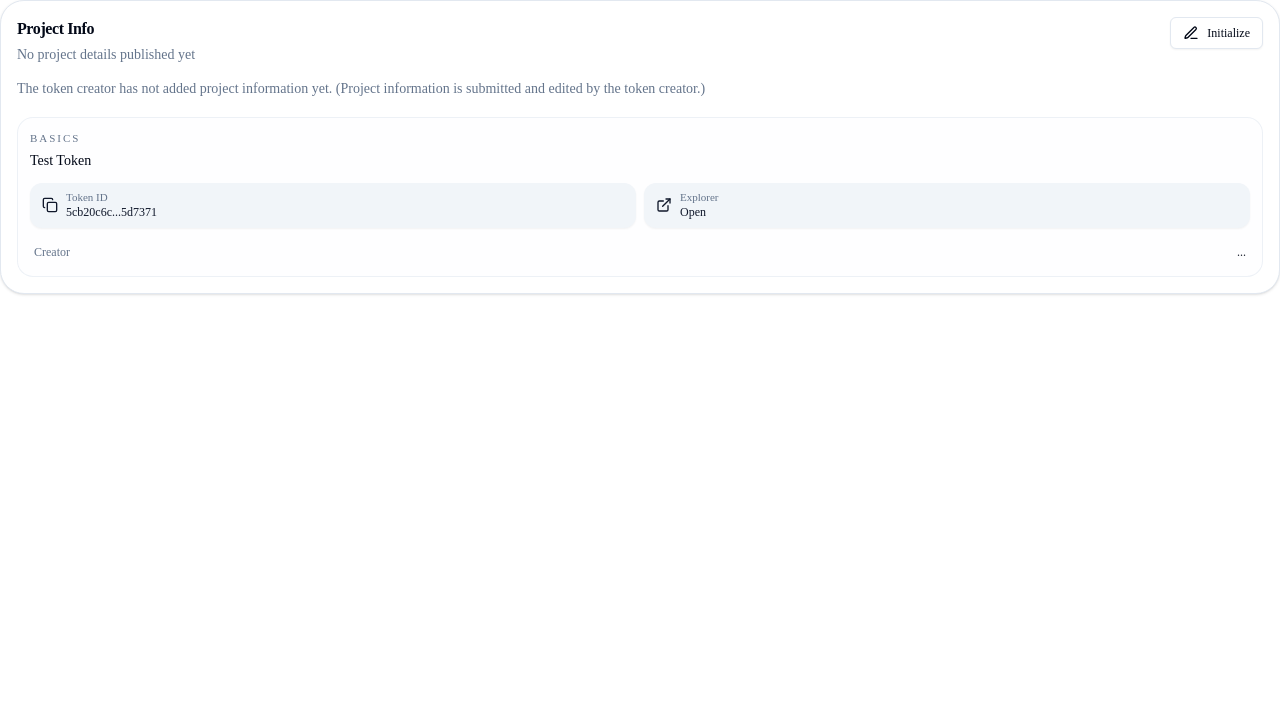
Test: TokenProjectInfoCard › shows project info source and moderation disclaimers
This screenshot has width=1280, height=720.
Expected: the text "The token creator has not added project information yet. (Project information is submitted and edited by the token creat" is shown, x1=17 y1=81 x2=705 y2=96
Click the button "Initialize".
click(1217, 33)  # box x1=1170 y1=17 x2=1263 y2=49
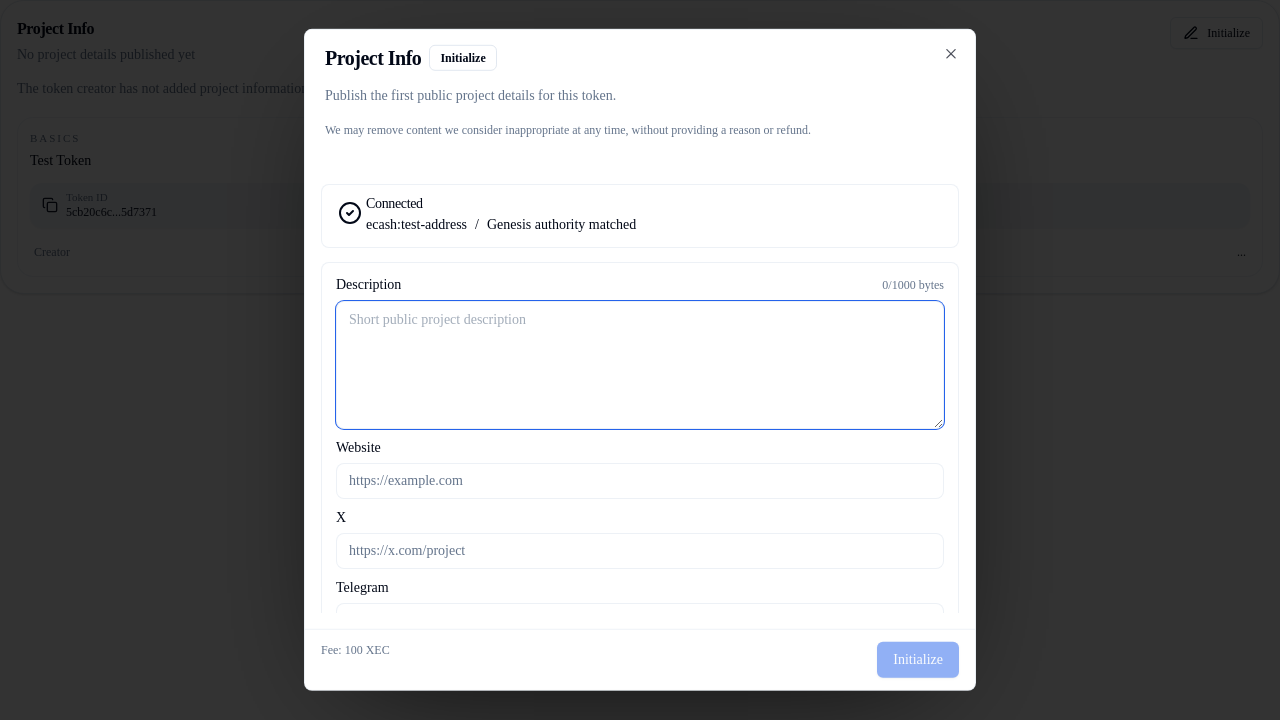
Result: the text "We may remove content we consider inappropriate at any time, without providing a reason or refund." is shown at x1=325 y1=123 x2=811 y2=137
